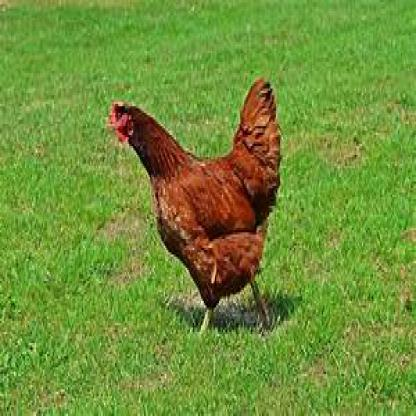chicken: (107, 75, 283, 334)
